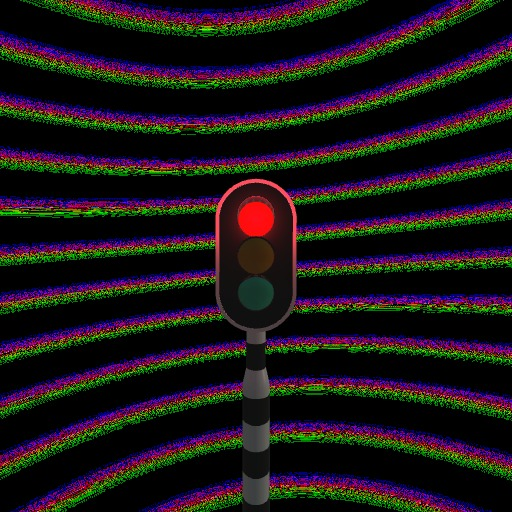Red_Light: (215, 177, 298, 336)
